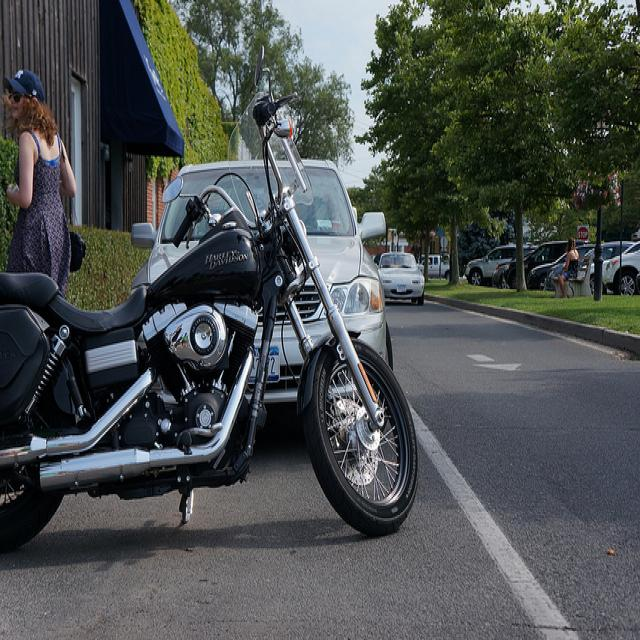motor: (1, 44, 419, 557)
